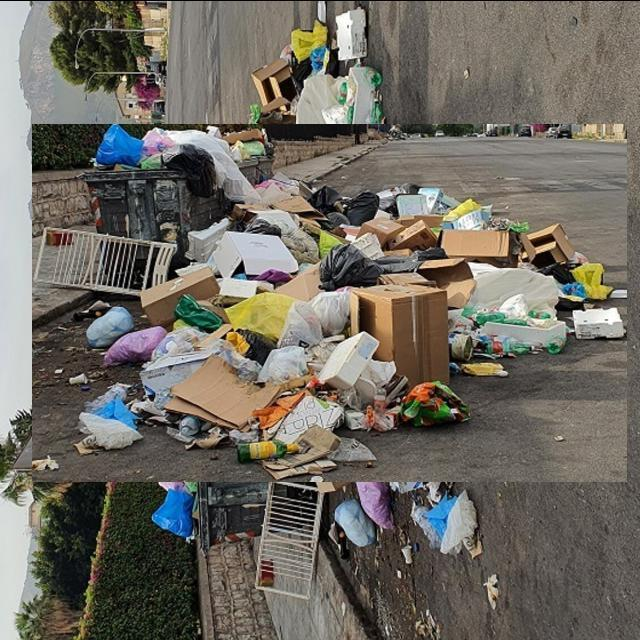Trashbag: (319, 244, 382, 290), (165, 148, 215, 188), (347, 186, 382, 227), (311, 185, 347, 215)
